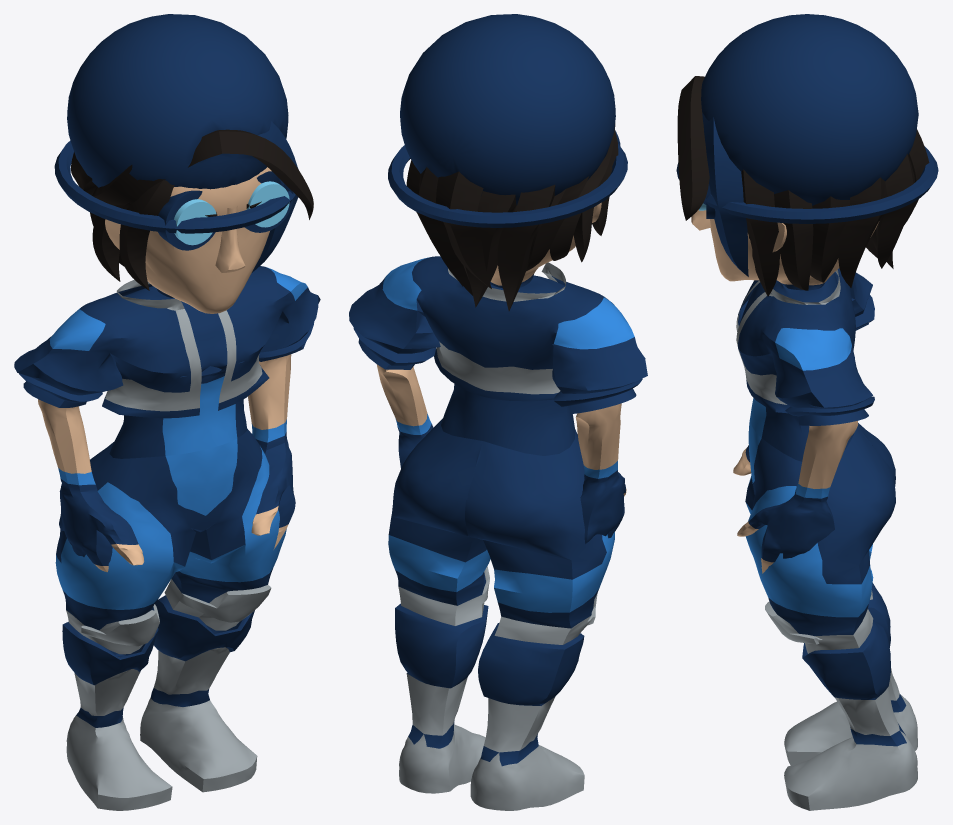
The model's file is av-nadadora-olimpica.glb.
The picture shows the model from 3 angles, left to right: view 1: azimuth 30°, elevation 25°; view 2: azimuth 150°, elevation 25°; view 3: azimuth 270°, elevation 25°; orthographic projection. The views are drawn at different scales.
Visible parts, largest first — view 1: Ad_oculos_natacao_1_0; view 2: Ad_oculos_natacao_1_0; view 3: Ad_oculos_natacao_1_0.
Part boxes in pixels (left/top/right/bottom): Ad_oculos_natacao_1_0: left=14, top=14, right=320, bottom=810; Ad_oculos_natacao_1_0: left=349, top=14, right=647, bottom=810; Ad_oculos_natacao_1_0: left=676, top=14, right=938, bottom=810.
Bounding box in the file's own units: 0.5854 × 1.41 × 0.4473.
